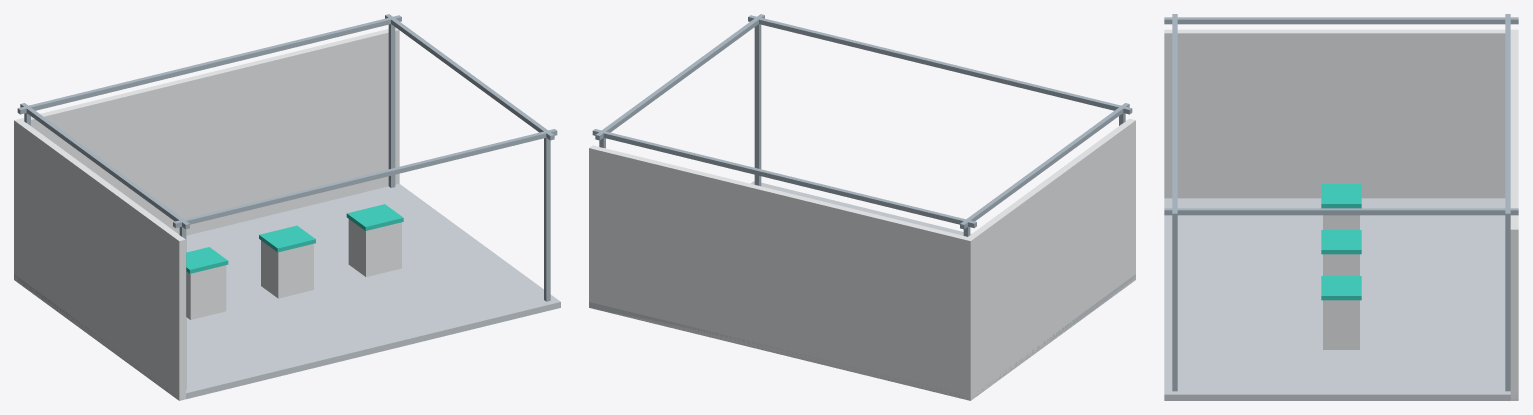
3 renders of one model, left to right at view 1: azimuth 30°, elevation 25°; view 2: azimuth 150°, elevation 25°; view 3: azimuth 270°, elevation 25°, orthographic. The views are drawn at different scales.
Visible parts, largest first — view 1: Exhibition Booth Concept; view 2: Exhibition Booth Concept; view 3: Exhibition Booth Concept.
Part boxes in pixels (x1,y1,x2,y2): Exhibition Booth Concept: (14, 14, 560, 400); Exhibition Booth Concept: (589, 14, 1135, 400); Exhibition Booth Concept: (1164, 14, 1518, 400).
Size of the model in its own units: 8 by 3.49 by 6.
